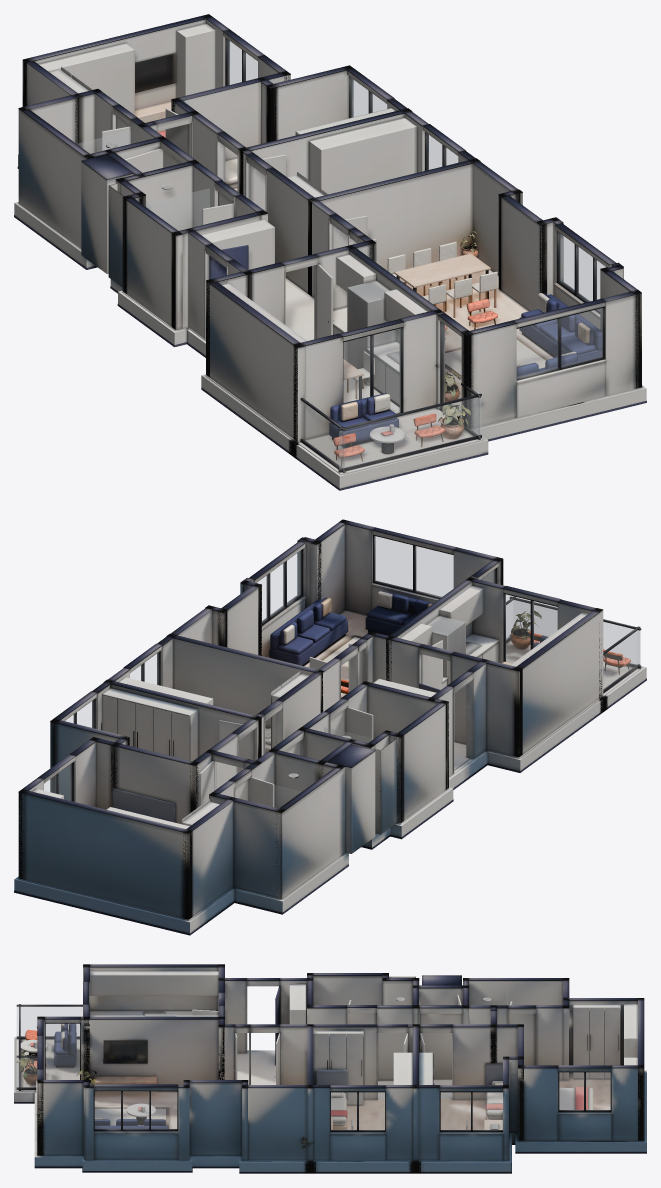
3 views of the same model, one above another, from view 1: azimuth 30°, elevation 25°; view 2: azimuth 150°, elevation 25°; view 3: azimuth 270°, elevation 25° (orthographic). The views are drawn at different scales.
Parts seen in each view (by area): view 1: plan, railg2_m, glass4_m, glass6_m, glass3_m, railg3_m, sg.002_m, glass5_m, glass0_m, glass1_m; view 2: plan, glass4_m, glass6_m, railg2_m, glass3_m, railg3_m; view 3: plan, glass3_m, glass1_m, glass2_m, glass0_m, glass5_m, railg3_m, railg5_m.
Boxes of the visible parts, x1,y1,x2,y2 form: plan: (14, 14, 646, 490); railg2_m: (339, 397, 481, 469); glass4_m: (517, 308, 602, 377); glass6_m: (343, 328, 400, 413); glass3_m: (559, 233, 605, 310); railg3_m: (301, 401, 344, 469); sg.002_m: (146, 188, 209, 230); glass5_m: (442, 323, 461, 409); glass0_m: (227, 39, 257, 85); glass1_m: (350, 78, 386, 117); plan: (14, 519, 646, 935); glass4_m: (375, 536, 453, 596); glass6_m: (505, 594, 557, 663); railg2_m: (514, 600, 640, 665); glass3_m: (257, 551, 300, 622); railg3_m: (603, 630, 638, 689); plan: (14, 964, 646, 1173); glass3_m: (95, 1091, 176, 1129); glass1_m: (441, 1092, 502, 1130); glass2_m: (331, 1092, 384, 1130); glass0_m: (559, 1072, 610, 1110); glass5_m: (46, 1024, 79, 1079); railg3_m: (17, 1007, 82, 1036); railg5_m: (17, 1058, 36, 1087).
Size of the model in its own units: 8.39 by 2.62 by 17.81.
Materials: 2 (1 with a texture image).
